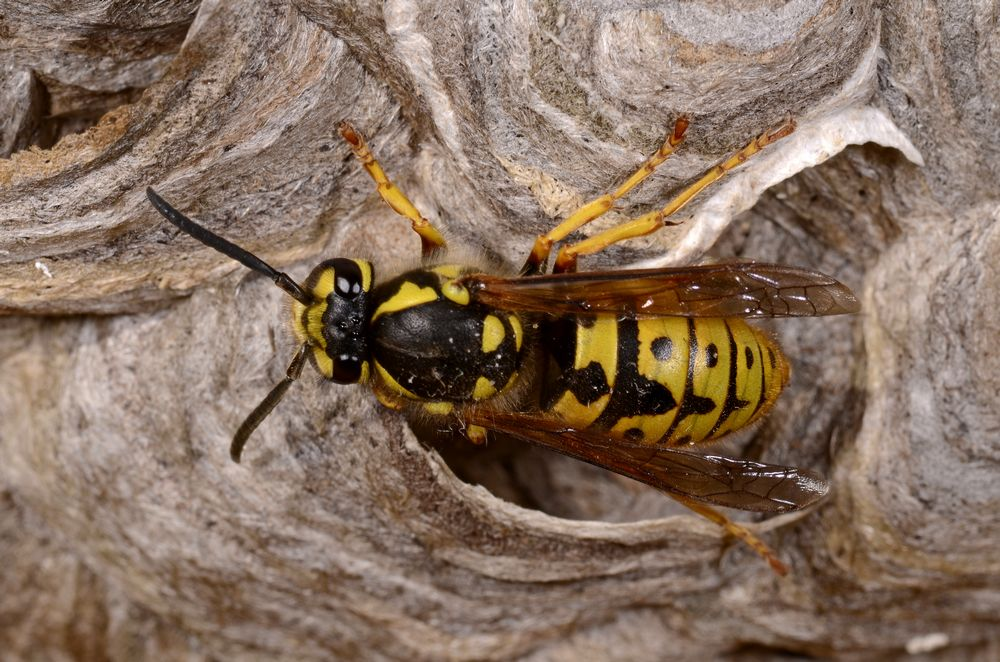chax: (127, 95, 922, 590)
